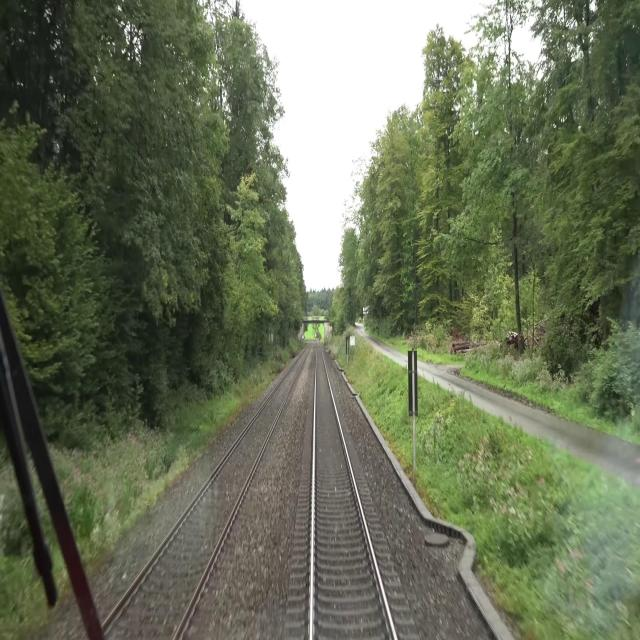rail-track: (96, 353, 304, 639), (314, 346, 392, 639)
